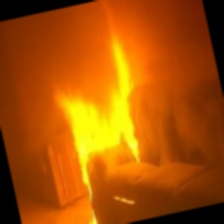fire: (36, 26, 182, 222)
